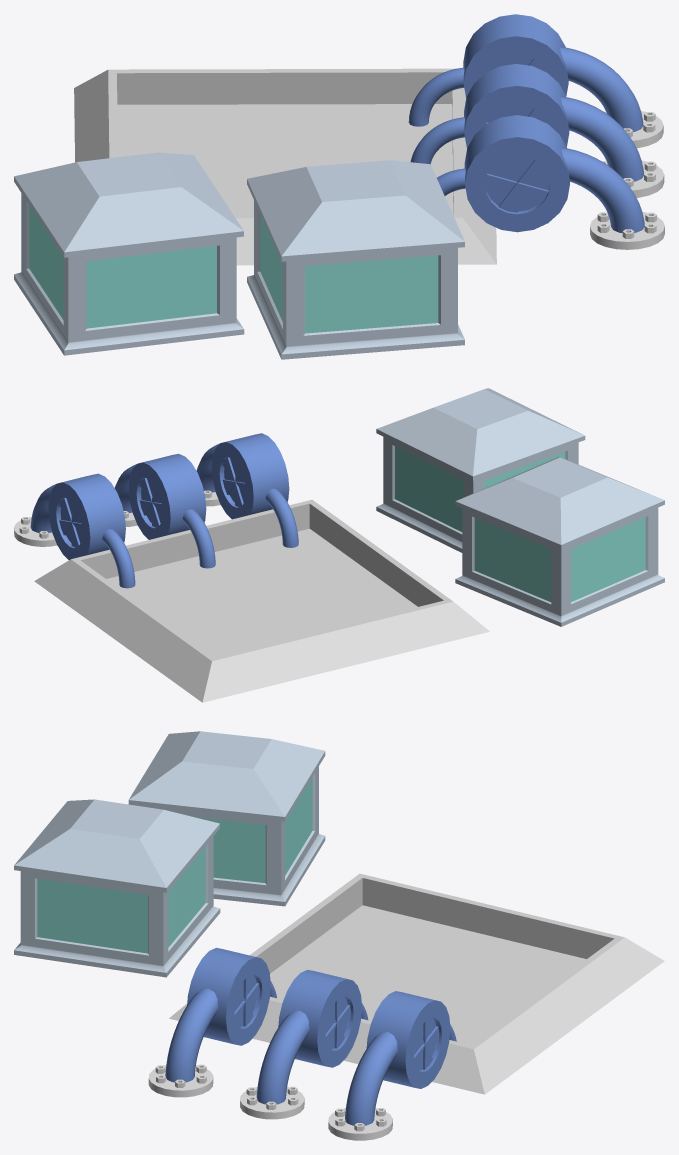
The model's file is illwerkeBuilding.fbx.
3 views of the same model, one above another, from view 1: azimuth 30°, elevation 25°; view 2: azimuth 150°, elevation 25°; view 3: azimuth 270°, elevation 25° (orthographic). The views are drawn at different scales.
Visible parts, largest first — view 1: polySurface49; view 2: polySurface49; view 3: polySurface49.
Boxes of the visible parts, x1=… form: polySurface49: x1=14, y1=14, x2=664, y2=359; polySurface49: x1=14, y1=388, x2=664, y2=702; polySurface49: x1=14, y1=731, x2=664, y2=1140.
Size of the model in its own units: 26.45 by 5.56 by 24.44.
